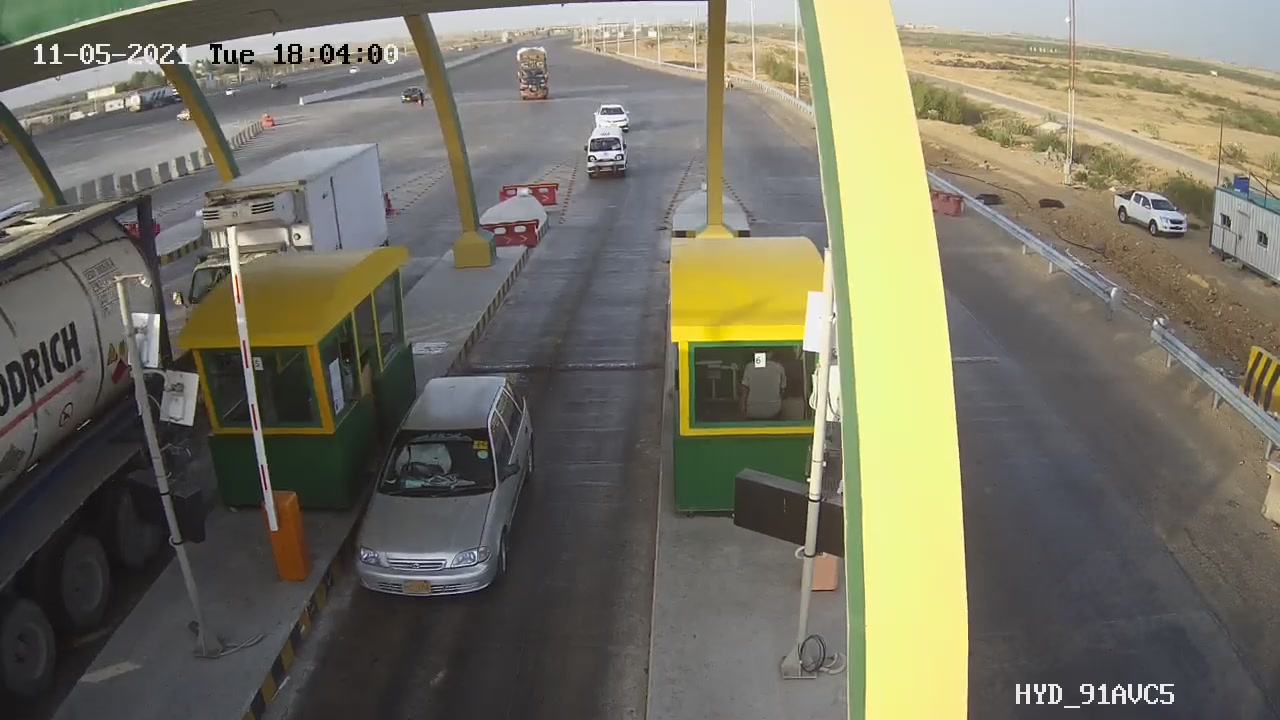F1: (340, 356, 547, 617)
